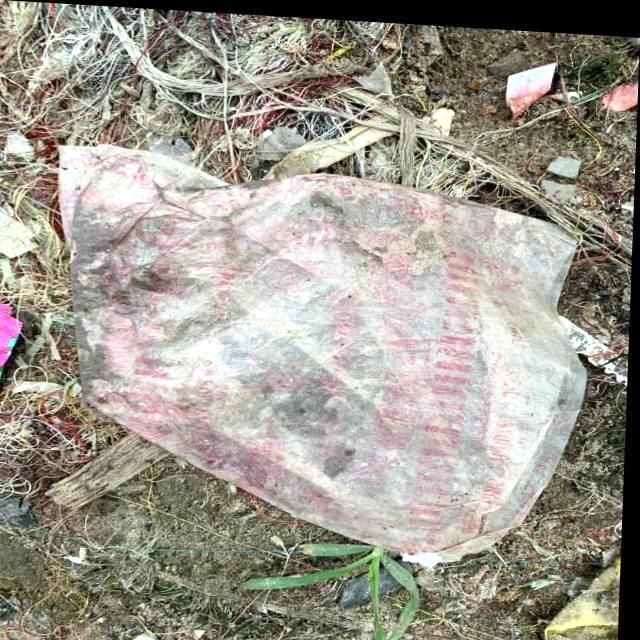polythene: (19, 162, 573, 580)
